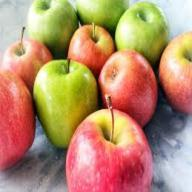apple: (66, 110, 154, 190), (36, 60, 97, 146), (98, 47, 156, 111), (1, 65, 35, 160), (116, 3, 166, 57), (158, 32, 192, 106), (68, 25, 113, 72), (4, 38, 52, 80)
